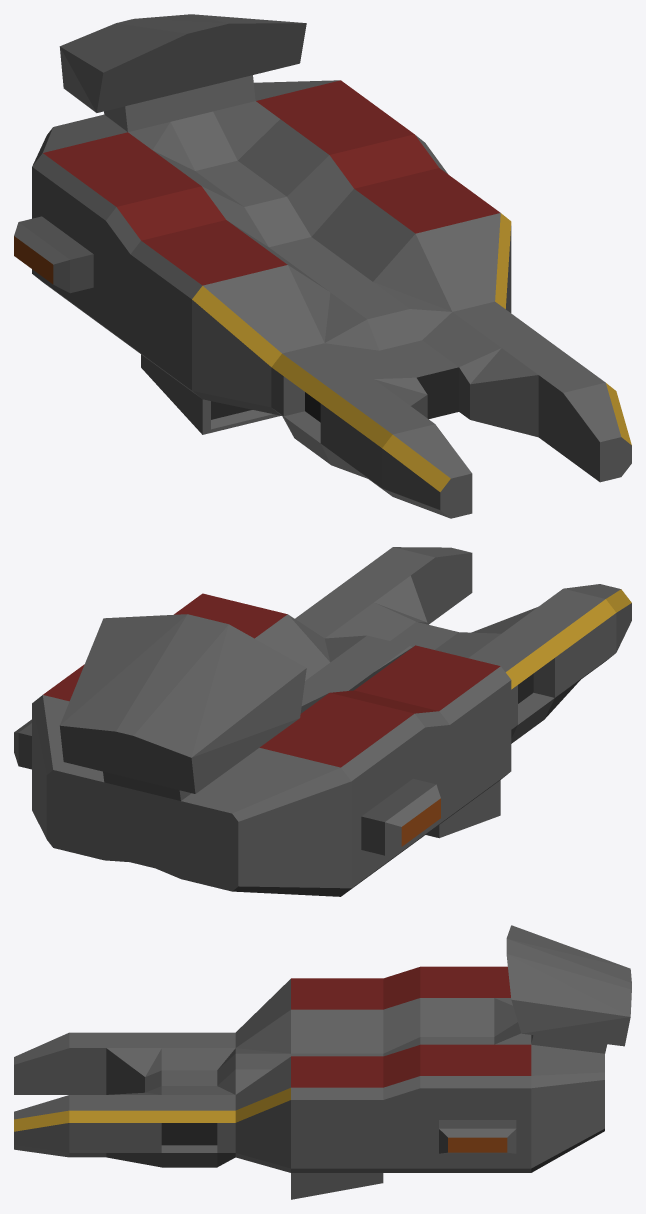
The model's file is Carrier1.obj.
The picture shows the model from 3 angles, top to bottom: view 1: azimuth 30°, elevation 25°; view 2: azimuth 150°, elevation 25°; view 3: azimuth 270°, elevation 25°; orthographic projection. The views are drawn at different scales.
Visible parts, largest first — view 1: Carrier_1; view 2: Carrier_1; view 3: Carrier_1.
Boxes of the visible parts, <box> form: Carrier_1: <box>14,14,631,518</box>; Carrier_1: <box>14,547,631,896</box>; Carrier_1: <box>14,925,631,1199</box>.
Size of the model in its own units: 18.2 by 11.89 by 33.45.
